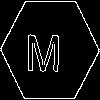M: (25, 25, 62, 72)
